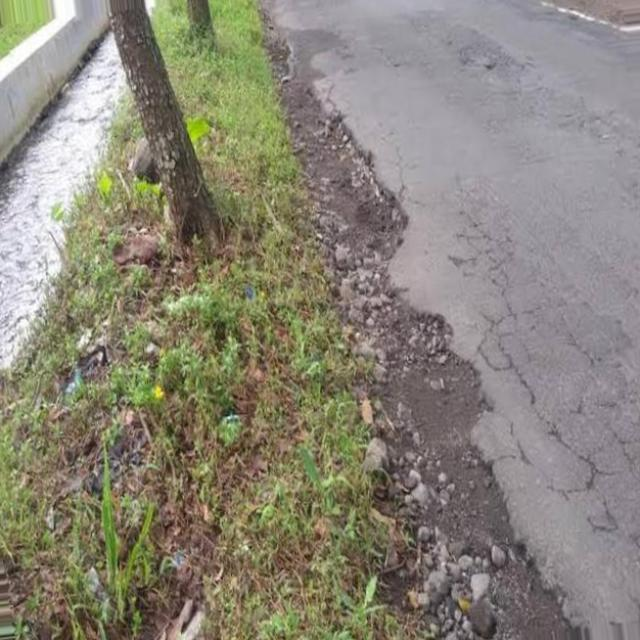Pinggir: (272, 41, 603, 640)
